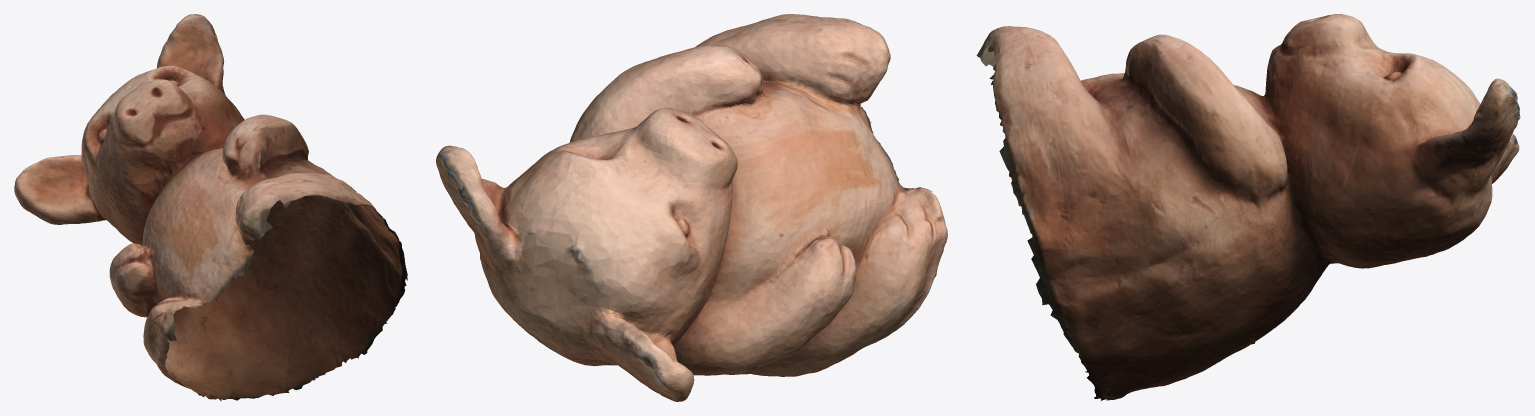
File: pii.fbx
3 renders of one model, left to right at view 1: azimuth 30°, elevation 25°; view 2: azimuth 150°, elevation 25°; view 3: azimuth 270°, elevation 25°, orthographic. The views are drawn at different scales.
Visible parts, largest first — view 1: Model; view 2: Model; view 3: Model.
Part boxes in pixels (<box>): Model: <box>14,14,407,401</box>; Model: <box>436,14,947,401</box>; Model: <box>976,14,1520,401</box>.
Bounding box in the file's own units: 1.04 × 1.51 × 1.04.
Materials: 1 (1 with a texture image).
